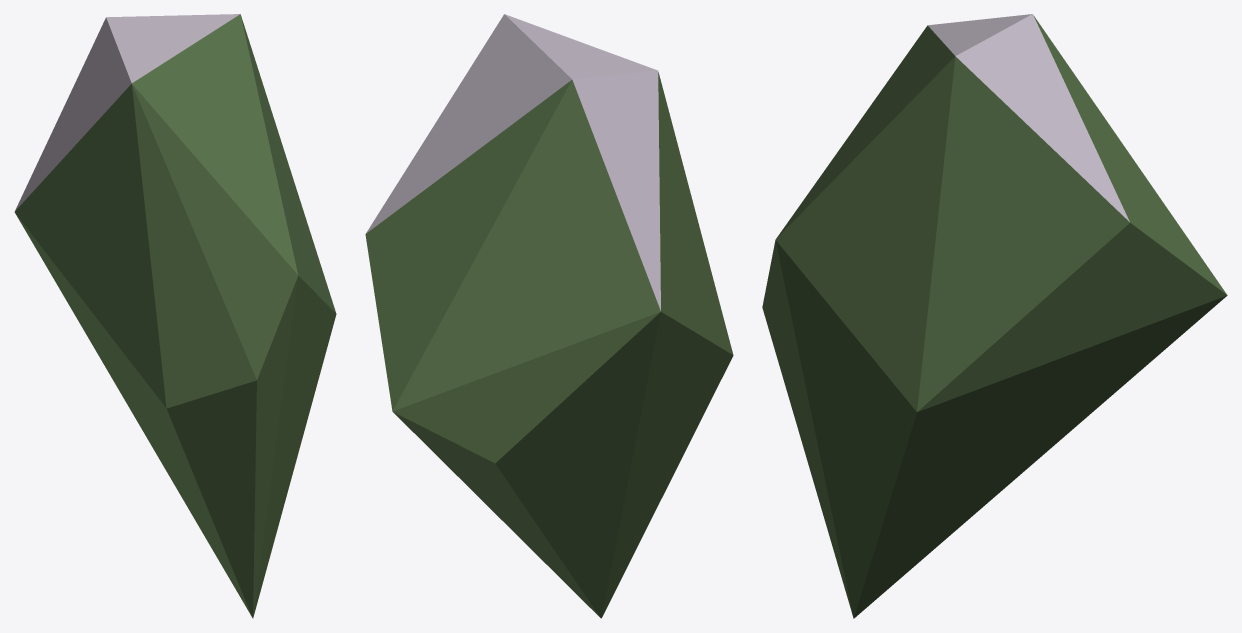
The model's file is BirchTree_Snow_1.lod4.glb.
3 views of the same model, side by side, from view 1: azimuth 30°, elevation 25°; view 2: azimuth 150°, elevation 25°; view 3: azimuth 270°, elevation 25° (orthographic). The views are drawn at different scales.
Visible parts, largest first — view 1: BirchTree_Snow_1; view 2: BirchTree_Snow_1; view 3: BirchTree_Snow_1.
Boxes of the visible parts, box(x1,y1,x2,y2) form: BirchTree_Snow_1: box(14, 14, 336, 618); BirchTree_Snow_1: box(365, 14, 733, 618); BirchTree_Snow_1: box(762, 14, 1227, 618).
Size of the model in its own units: 1.76 by 3.63 by 2.64.
